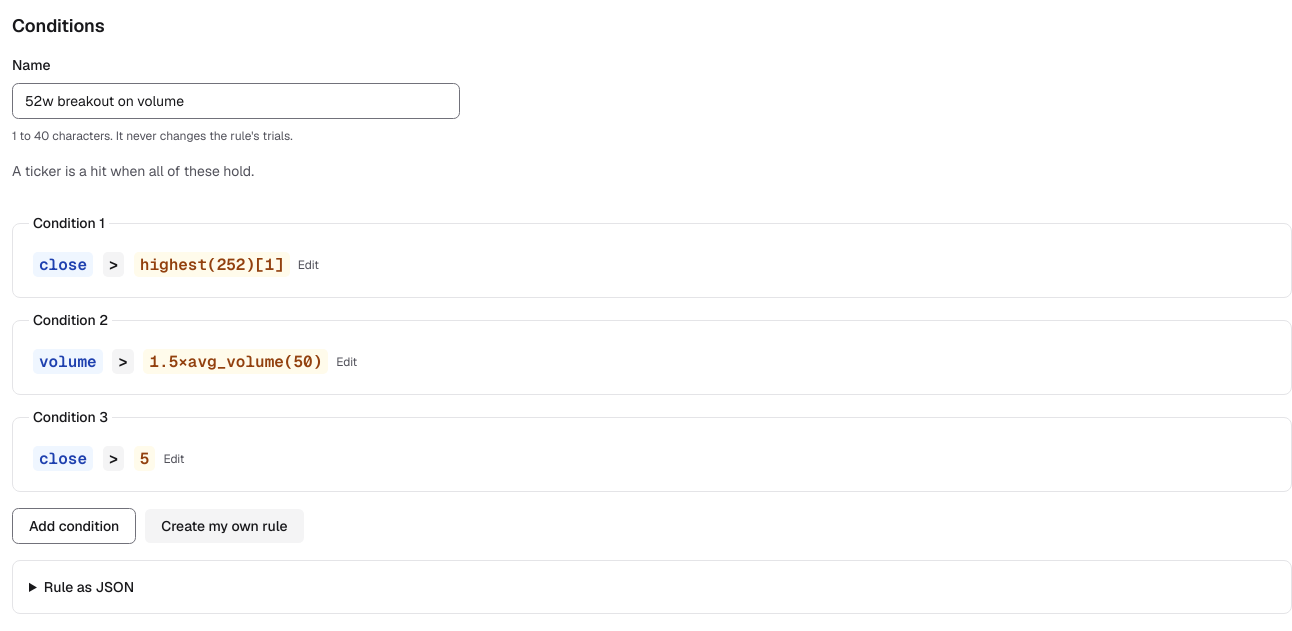
Scenario: RuleBuilder "Create my own rule" (UAT) › keeps the conditions, names the rule My rule, and then steps aside
Expected: the field labelled "Name" holds "52w breakout on volume", [12,83,460,119]
Click the button "Create my own rule".
click(224, 526)  # box [144,508,305,544]
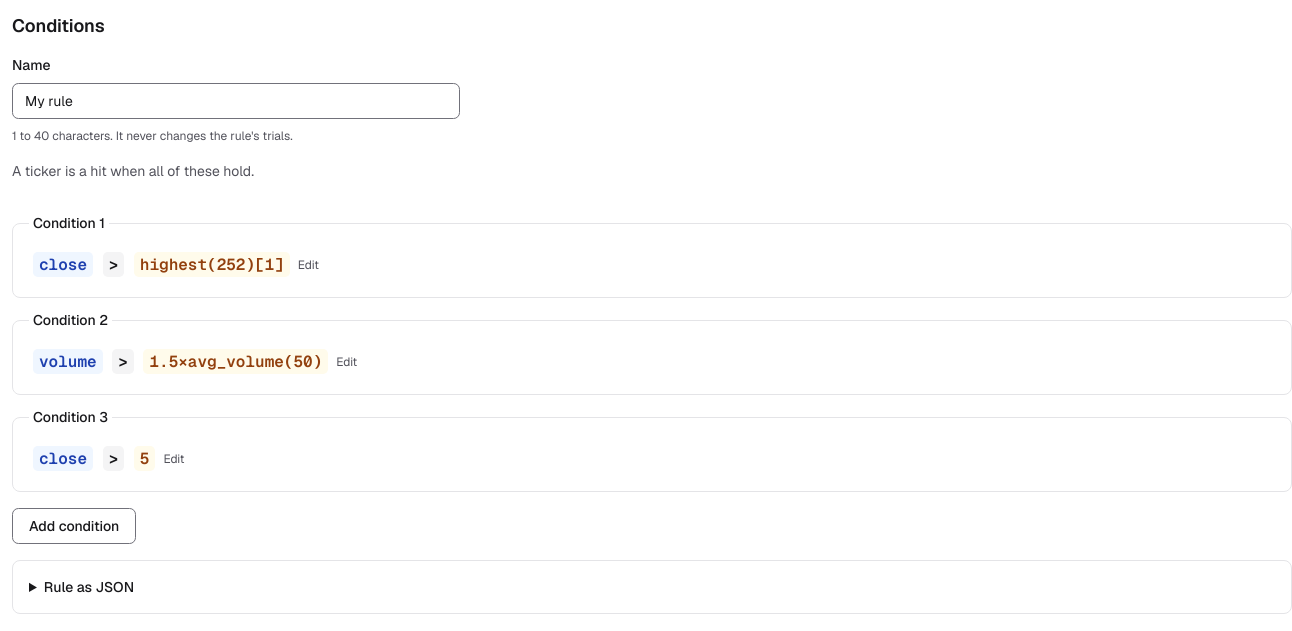
Expected: the number of elements "Condition 1 close > highest(252)[1] Edit" is 3, [12,213,1291,298]; [12,310,1291,395]; [12,407,1291,492]
Now the field labelled "Name" holds "My rule", box [12,83,460,119]
Now the button "Create my own rule" is gone
